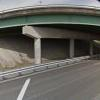Bridge: (4, 2, 98, 65)
